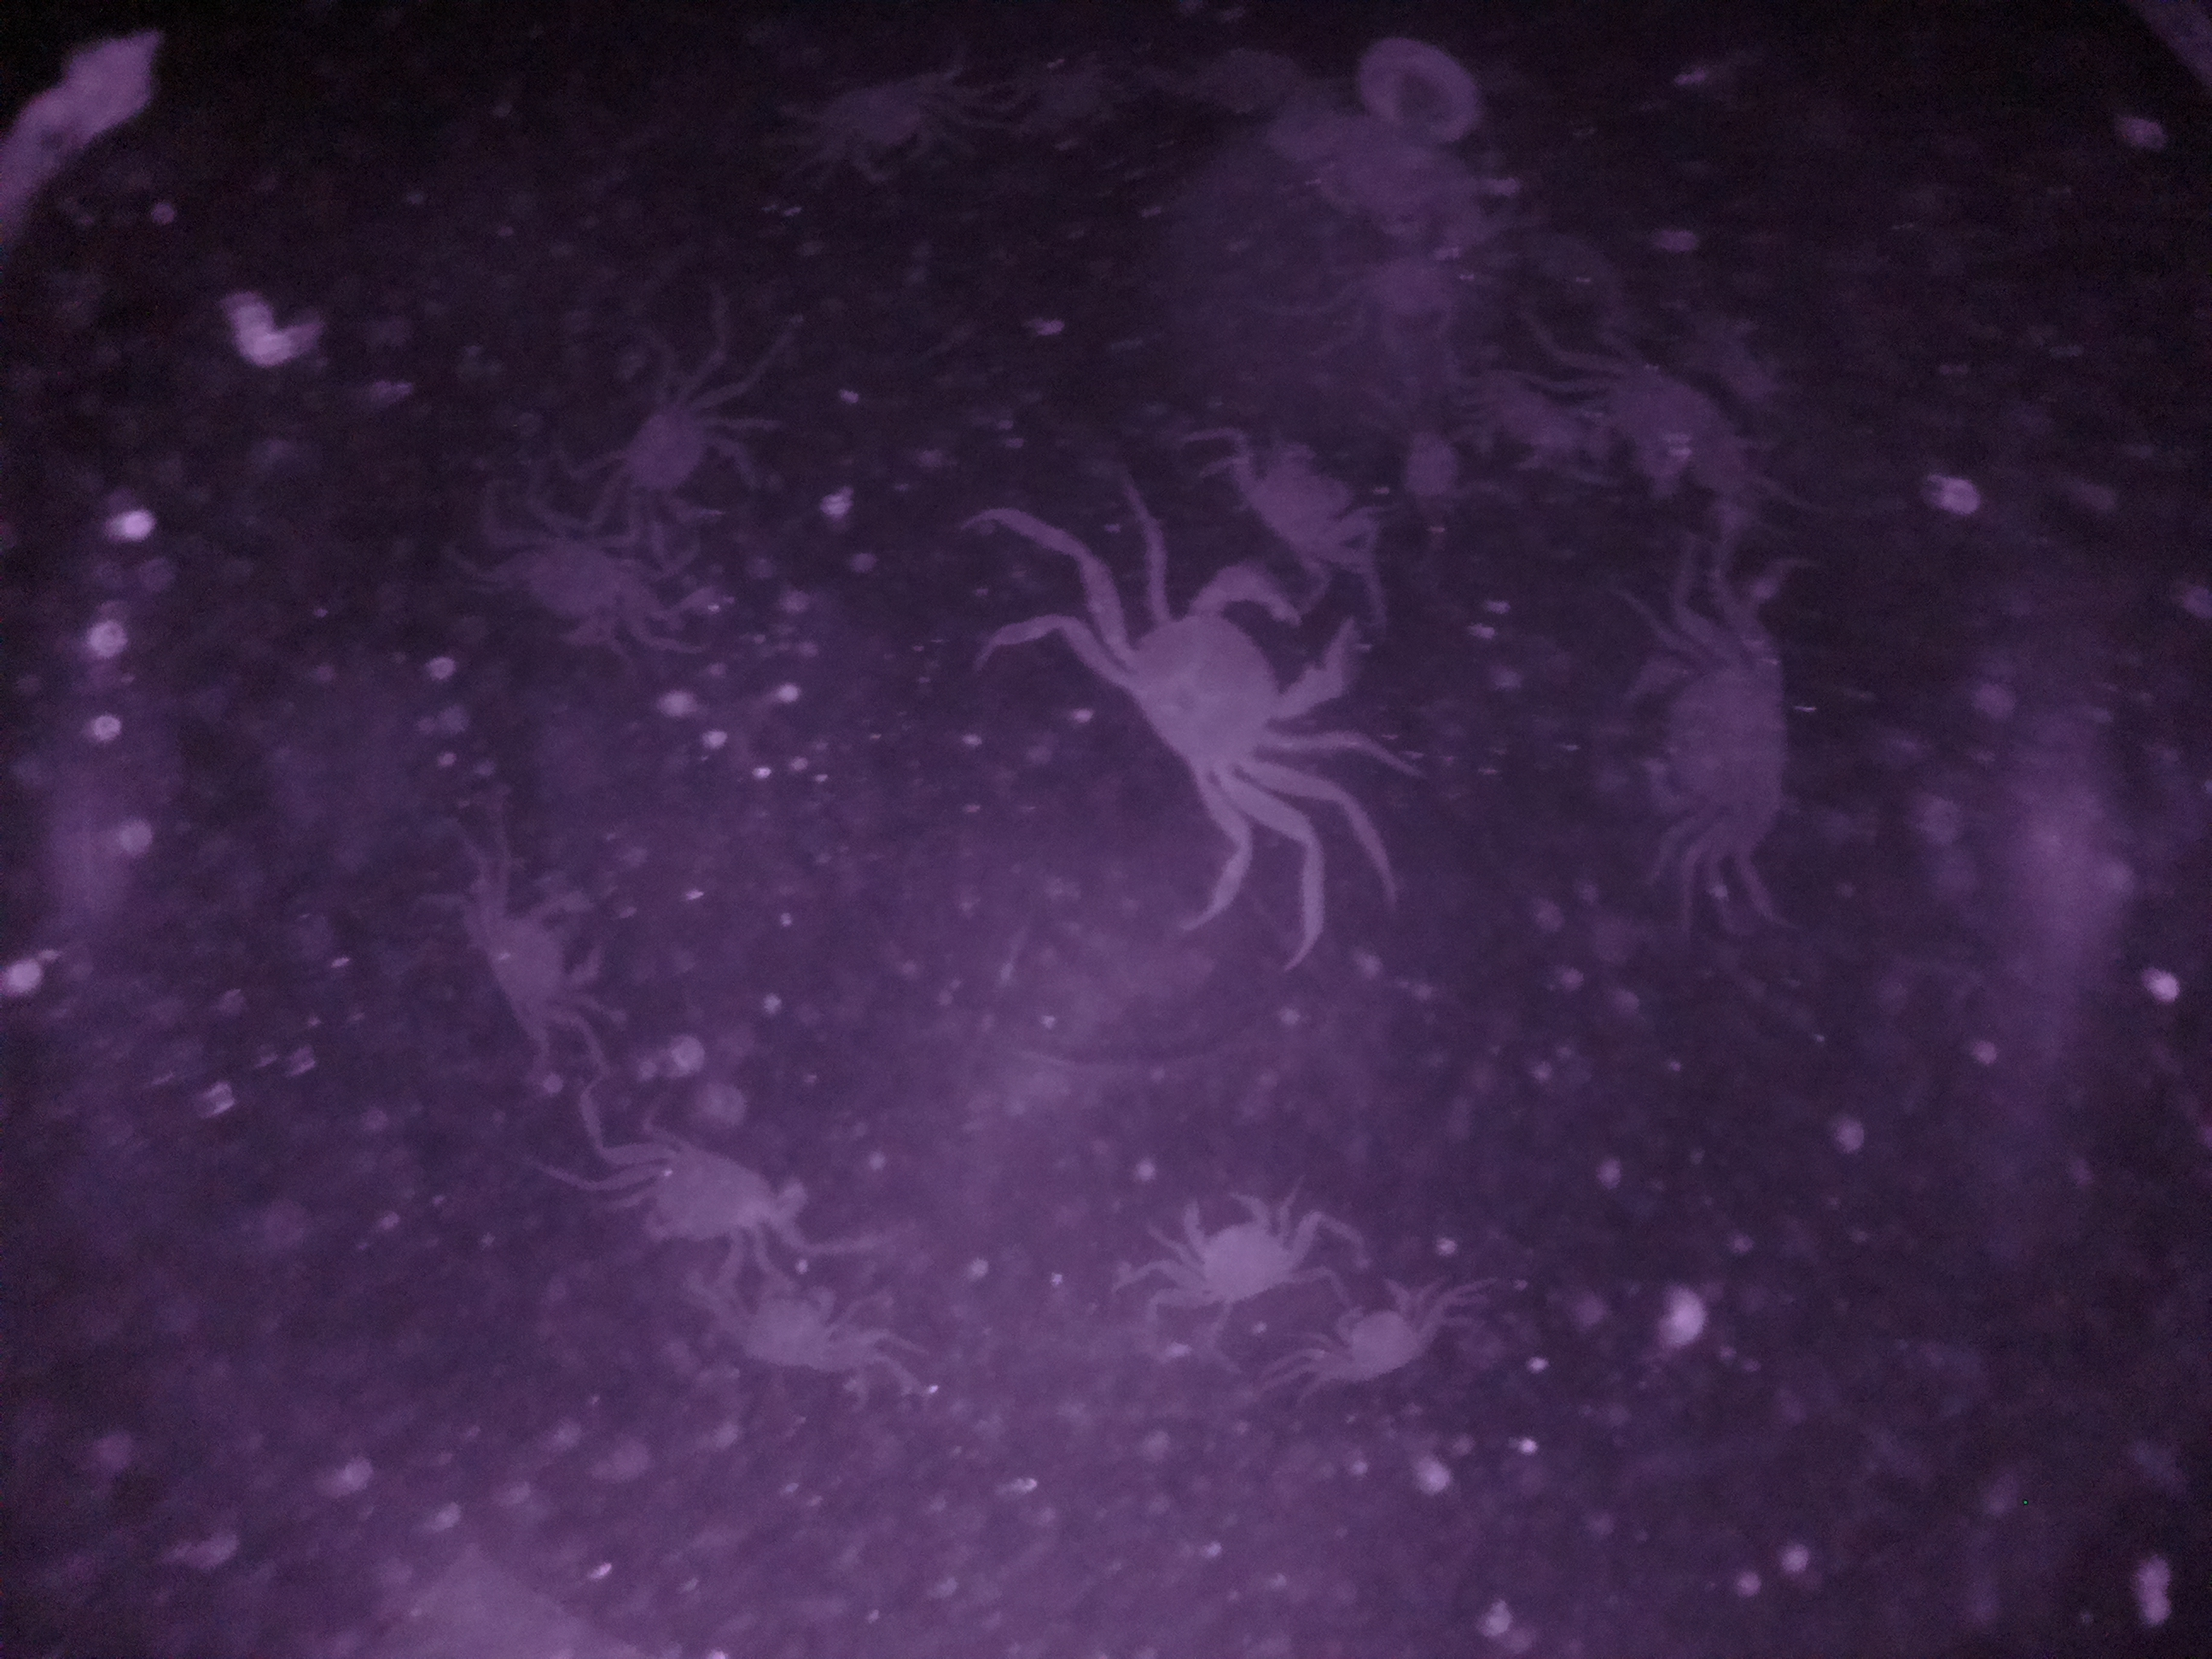Crab: (1068, 570, 1374, 824), (1608, 620, 1810, 871), (448, 863, 631, 1063), (596, 1121, 826, 1263), (592, 380, 779, 538), (685, 1249, 892, 1385), (1209, 420, 1392, 573), (1134, 1176, 1315, 1319), (787, 66, 974, 193), (1299, 1274, 1463, 1405)
